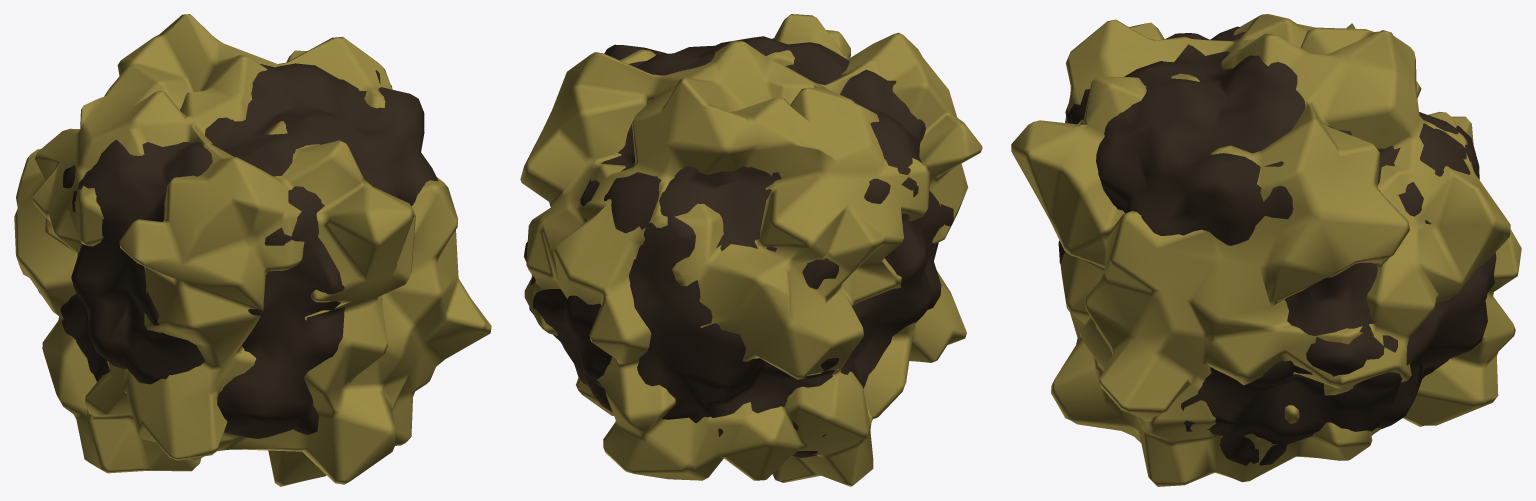
Rendered from hvs_ore_depositmedium.fbx.
3 views of the same model, side by side, from view 1: azimuth 30°, elevation 25°; view 2: azimuth 150°, elevation 25°; view 3: azimuth 270°, elevation 25° (orthographic). The views are drawn at different scales.
Parts seen in each view (by area): view 1: Cube.012, Cube.013; view 2: Cube.012, Cube.013; view 3: Cube.012, Cube.013.
Boxes of the visible parts, box(x1,y1,x2,y2) form: Cube.012: box(14, 14, 491, 486); Cube.013: box(38, 63, 438, 438); Cube.012: box(520, 14, 982, 486); Cube.013: box(524, 36, 953, 457); Cube.012: box(1011, 14, 1521, 486); Cube.013: box(1058, 26, 1496, 465).
Bounding box in the file's own units: 12.86 × 13.95 × 15.14.
